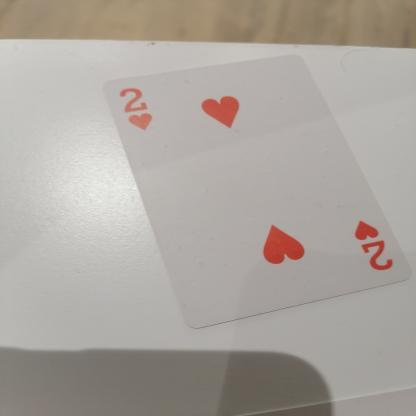2H: (330, 209, 410, 278), (106, 76, 168, 142)
